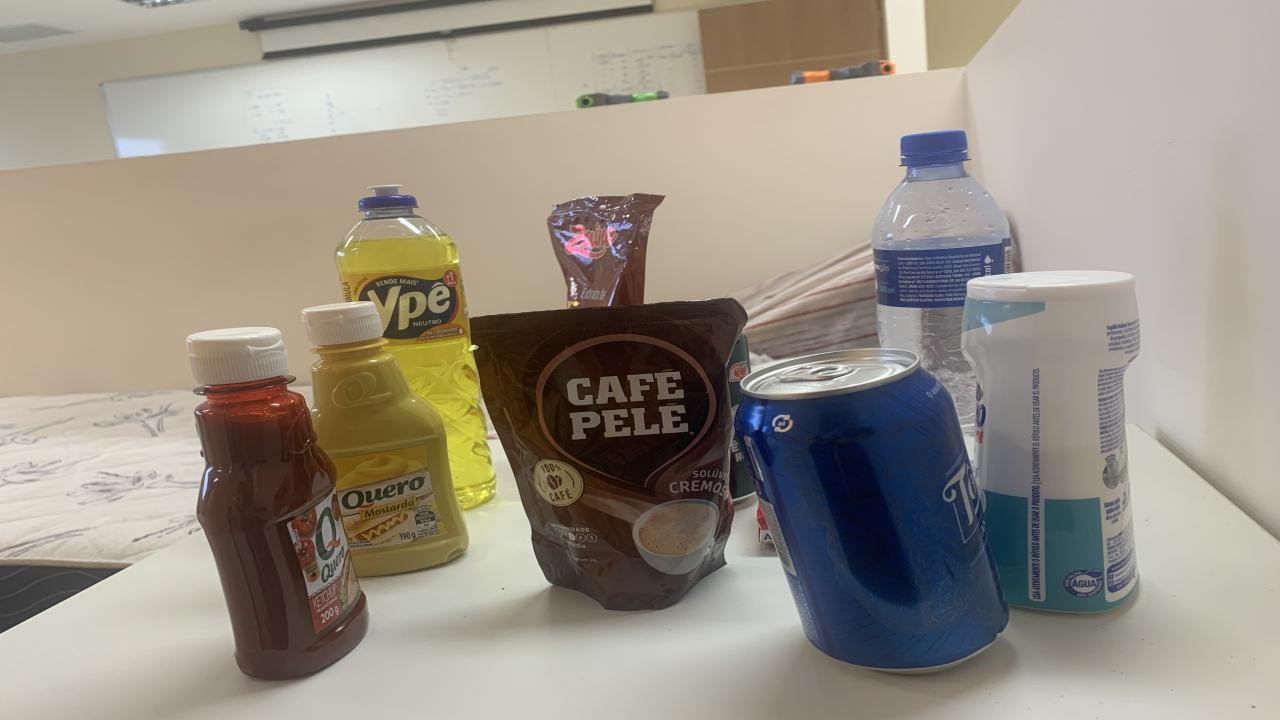Cleaner-Cleanup_Items: (962, 270, 1140, 613)
Coffee-Pantry_Items: (470, 298, 748, 609)
Detergent-Cleanup_Items: (335, 186, 495, 508)
Ketchup-Pantry_Items: (188, 326, 368, 679)
Mustard-Pantry_Items: (302, 302, 468, 576)
Tomato_Sauce-Pantry_Items: (548, 193, 665, 308)
Tonic-Drinks: (735, 349, 1008, 671)
Water_Bottle-Drinks: (872, 131, 1010, 431)
